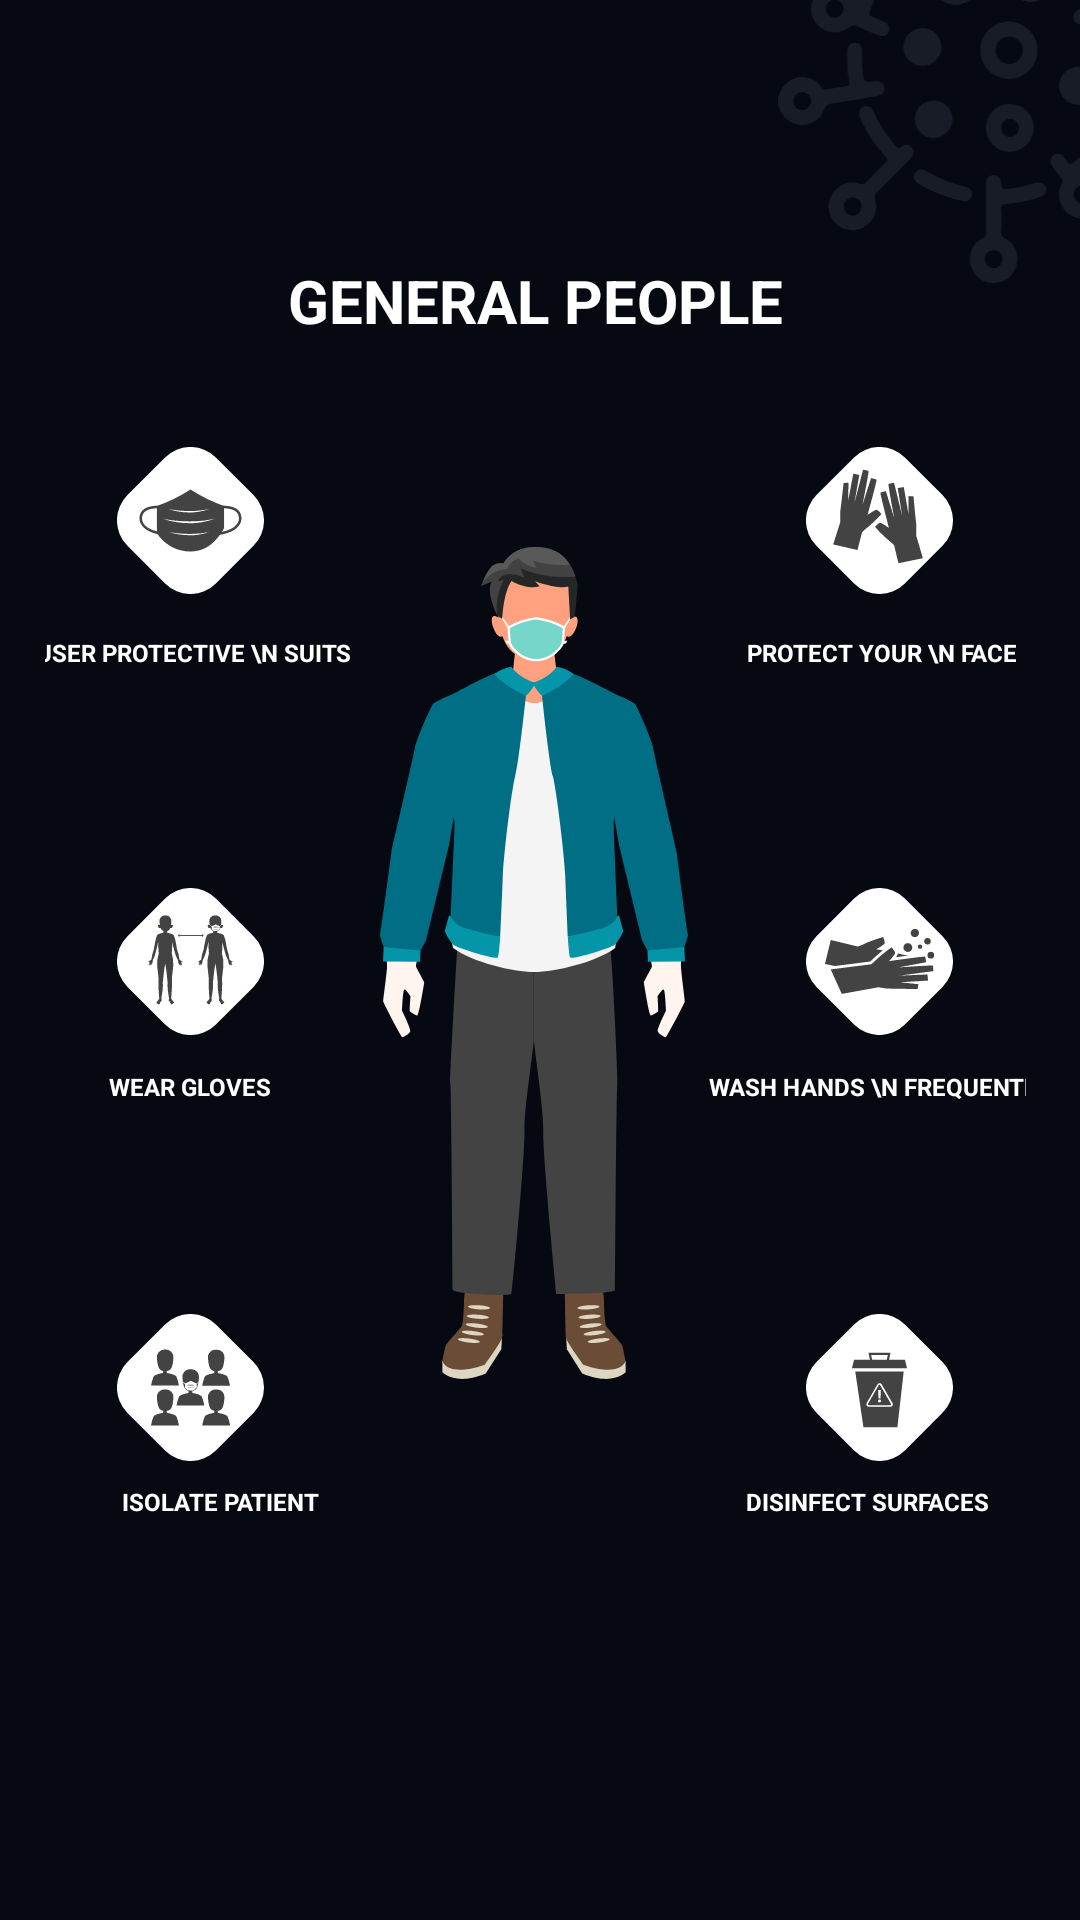

Point at icon controls on the screen. Image size 1080 x 1920, points as [x,y].
avoid contact with waste: [879,1387]
avoid crowded places: [190,1387]
keep distance from sick: [190,961]
wear gloves: [879,520]
